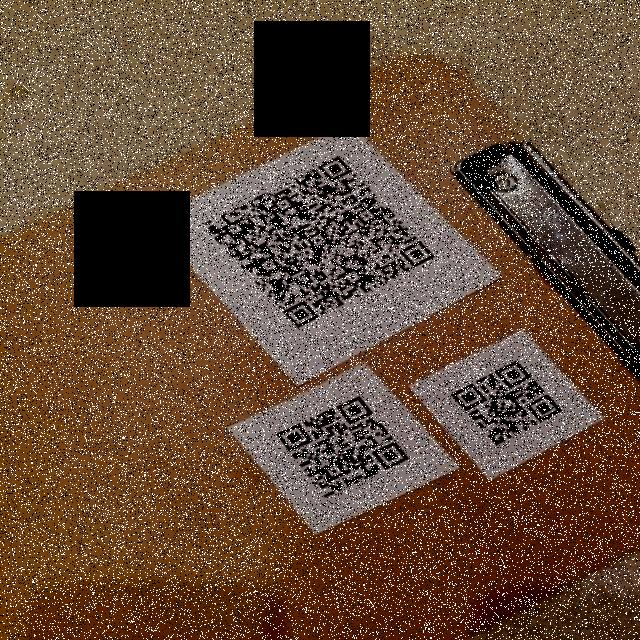QR_CODE: (194, 146, 444, 336), (261, 385, 424, 506), (442, 356, 576, 455)
